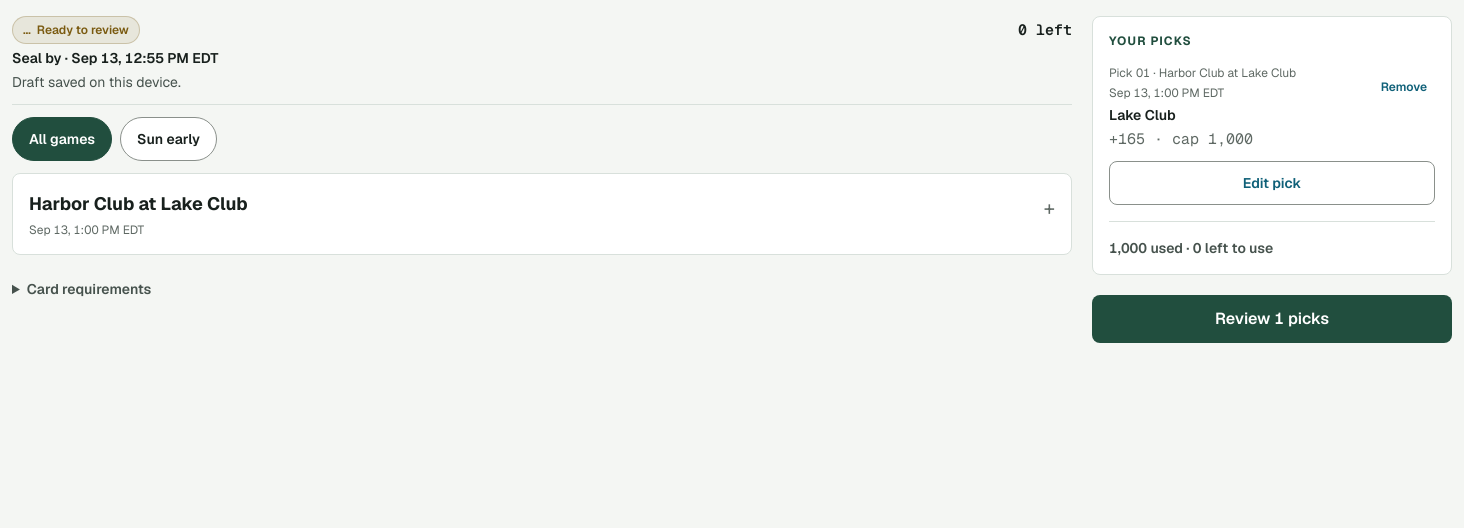
Test case: authenticated card editor › allows explicit Submit to renew an expired review without another Review click
Click the button "Review 1 picks": (1272, 319) [1092,295,1452,343]
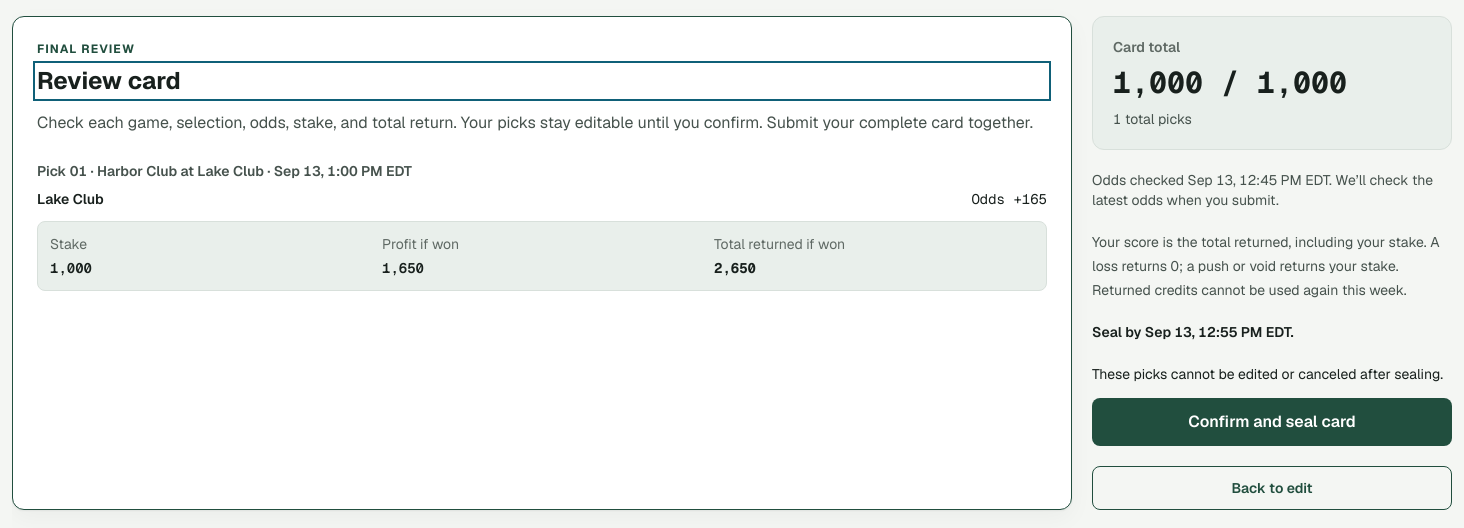
Check: the button "Confirm and seal card" is enabled, box [1092,398,1452,446]
Check: the text "We’ll check the latest odds when you submit" is shown, box [1092,171,1433,209]
